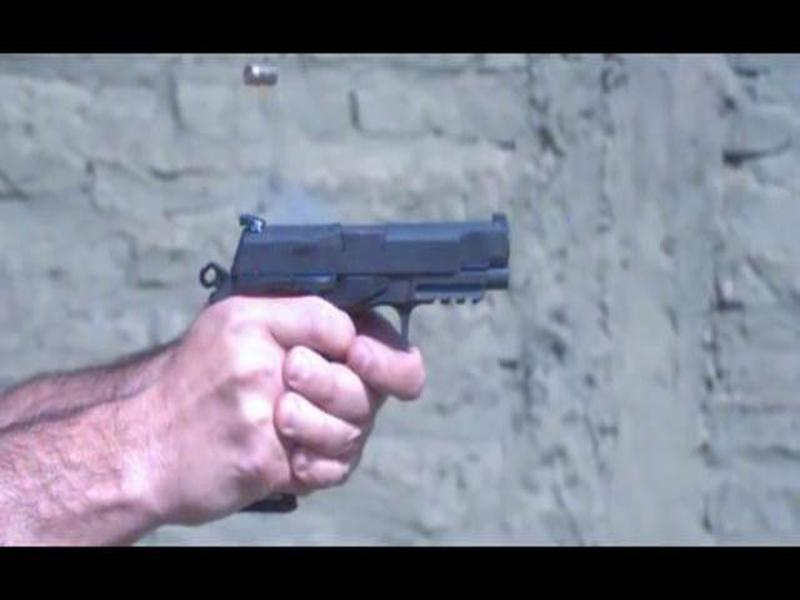Pistola: (154, 184, 560, 364)
